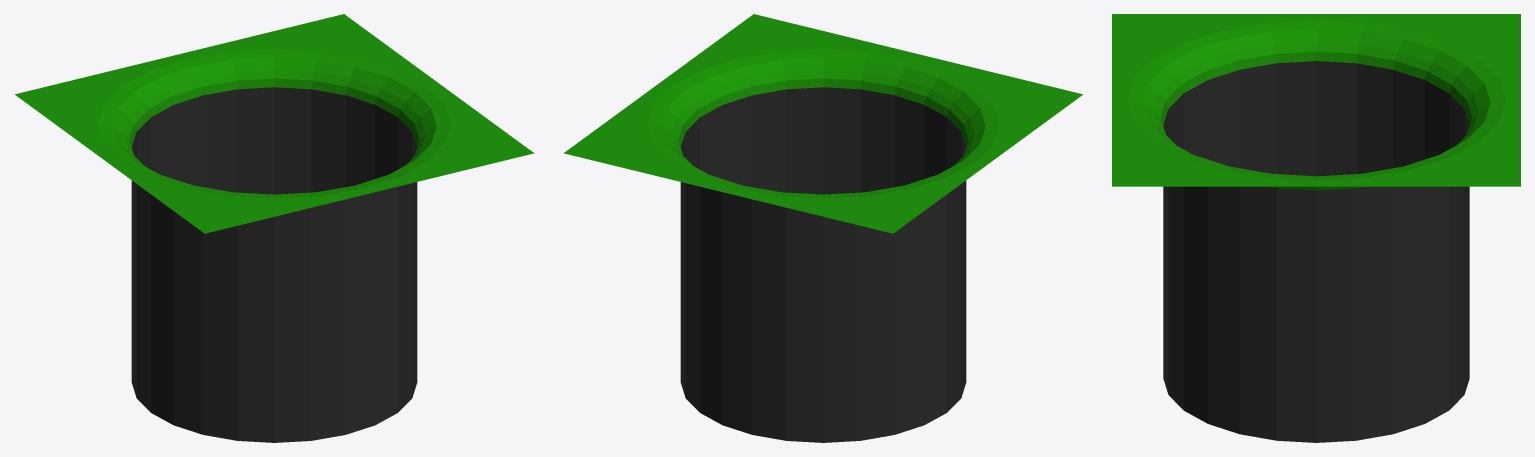
The model's file is holeDark.fbx.
3 views of the same model, side by side, from view 1: azimuth 30°, elevation 25°; view 2: azimuth 150°, elevation 25°; view 3: azimuth 270°, elevation 25° (orthographic). The views are drawn at different scales.
Parts seen in each view (by area): view 1: hole; view 2: hole; view 3: hole.
Boxes of the visible parts, x1=… form: hole: x1=15, y1=14, x2=533, y2=442; hole: x1=564, y1=14, x2=1082, y2=442; hole: x1=1112, y1=14, x2=1520, y2=442.
Size of the model in its own units: 200 by 150 by 200.
